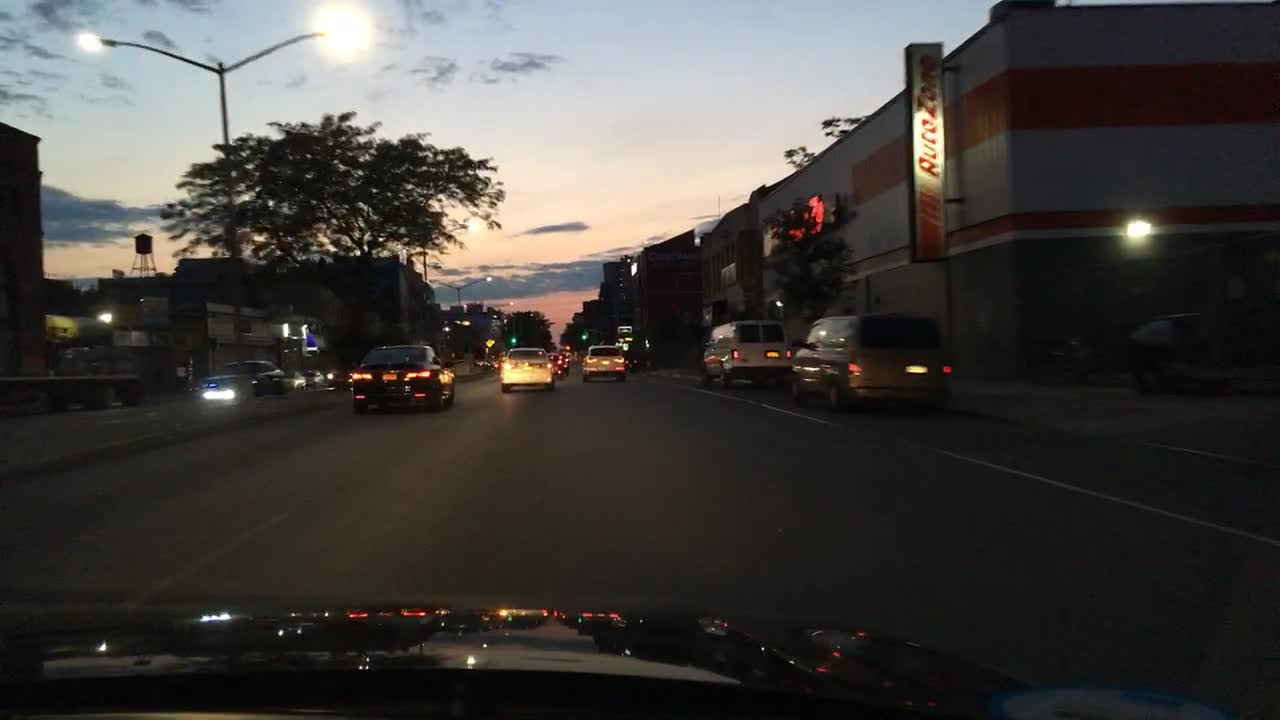car: (788, 312, 953, 416), (351, 343, 456, 413), (701, 317, 790, 388), (498, 346, 556, 391), (195, 372, 252, 408), (223, 358, 288, 388), (580, 344, 626, 383), (282, 365, 311, 391), (326, 364, 353, 386), (305, 367, 326, 389), (558, 345, 573, 373), (544, 351, 562, 374), (624, 352, 638, 370), (577, 327, 589, 340), (489, 357, 498, 372), (578, 348, 586, 364)
person: (1129, 318, 1184, 398)
traffic light: (507, 333, 518, 345)
traffic sign: (482, 337, 497, 346)
